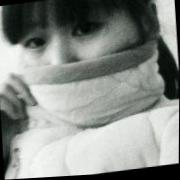WRONG: (15, 1, 141, 139)
